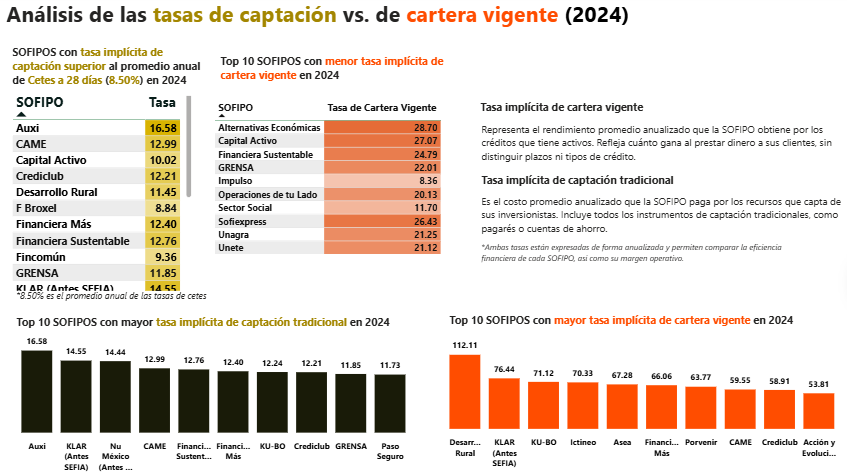

This screenshot's page, from the dashboard's own definition file:
{"tool":"powerbi","page":{"name":"Tasas Captación vs. Cartera Vigente","canvas":[1280,720],"ordinal":3},"visuals":[{"type":"clusteredColumnChart","title":"¿Cuáles son las diez SOFIPOS que más pagan a los inversionistas en promedio?","fields":{"Category":["TasaImplícita_Capt.Nombre de la SOFIPO                        Tasa implícita de captación tradicional"],"Y":["Sum(TasaImplícita_Capt.Prom_TasaCap_Anual)"]},"box":[0,492.6,639.5,227.8],"z":0},{"type":"clusteredColumnChart","title":"¿Cuáles son las SOFIPOS que más cobran a los inversionistas?","fields":{"Y":["Sum(TasaImplícita_CarteraVigente.Prom_TasaCartV_Anual)"],"Category":["TasaImplícita_CarteraVigente.Nombre de la SOFIPO                    Tasa implícita de cartera vigente 3/"]},"box":[639.5,497.7,640.8,217.7],"z":1000},{"type":"tableEx","fields":{"Values":["TasaImplícita_Capt.Nombre de la SOFIPO                        Tasa implícita de captación tradicional","Sum(TasaImplícita_Capt.Prom_TasaCap_Anual)"]},"box":[18.3,138.2,277.6,308.2],"z":2000},{"type":"textbox","box":[18.3,68.5,310.6,81.9],"z":3000},{"type":"textbox","box":[8.6,0,983.2,78.3],"z":4000},{"type":"textbox","box":[670.1,468.3,596.7,57.5],"z":5000},{"type":"textbox","box":[23.2,472,621.2,41.6],"z":6000},{"type":"textbox","box":[23.2,435.3,305.7,33],"z":7000},{"type":"tableEx","fields":{"Values":["TasaImplícita_CarteraVigente.Nombre de la SOFIPO                    Tasa implícita de cartera vigente 3/","Sum(TasaImplícita_CarteraVigente.Prom_TasaCartV_Anual)"]},"box":[320.4,150.4,360.7,271.5],"z":8000},{"type":"textbox","box":[328.9,81.9,388.9,56.3],"z":9000},{"type":"textbox","box":[717.8,184.6,549.1,69.7],"z":10000},{"type":"textbox","box":[716.6,150.4,275.1,42.8],"z":11000},{"type":"textbox","box":[717.8,292.3,549.1,69.7],"z":12000},{"type":"textbox","box":[717.8,260.5,324.1,31.8],"z":13000},{"type":"textbox","box":[717.8,362,503.8,48.9],"z":14000}]}

Visuals, with their boxes in screenshot pixels (x1, y1, x2, y2), scaled from the page's 1280x720 canvas onto the 847x475 screenshot:
"¿Cuáles son las diez SOFIPOS que más pagan a los inversionistas en promedio?" clusteredColumnChart: pyautogui.locateOnScreen(0, 325, 423, 474)
"¿Cuáles son las SOFIPOS que más cobran a los inversionistas?" clusteredColumnChart: pyautogui.locateOnScreen(423, 328, 846, 472)
tableEx - TasaImplícita_Capt.Nombre de la SOFIPO                        Tasa implícita de captación tradicional x Sum(TasaImplícita_Capt.Prom_TasaCap_Anual): pyautogui.locateOnScreen(12, 91, 196, 294)
textbox: pyautogui.locateOnScreen(12, 45, 218, 99)
textbox: pyautogui.locateOnScreen(6, 0, 656, 52)
textbox: pyautogui.locateOnScreen(443, 309, 838, 347)
textbox: pyautogui.locateOnScreen(15, 311, 426, 339)
textbox: pyautogui.locateOnScreen(15, 287, 218, 309)
tableEx - TasaImplícita_CarteraVigente.Nombre de la SOFIPO                    Tasa implícita de cartera vigente 3/ x Sum(TasaImplícita_CarteraVigente.Prom_TasaCartV_Anual): pyautogui.locateOnScreen(212, 99, 451, 278)
textbox: pyautogui.locateOnScreen(218, 54, 475, 91)
textbox: pyautogui.locateOnScreen(475, 122, 838, 168)
textbox: pyautogui.locateOnScreen(474, 99, 656, 127)
textbox: pyautogui.locateOnScreen(475, 193, 838, 239)
textbox: pyautogui.locateOnScreen(475, 172, 689, 193)
textbox: pyautogui.locateOnScreen(475, 239, 808, 271)
